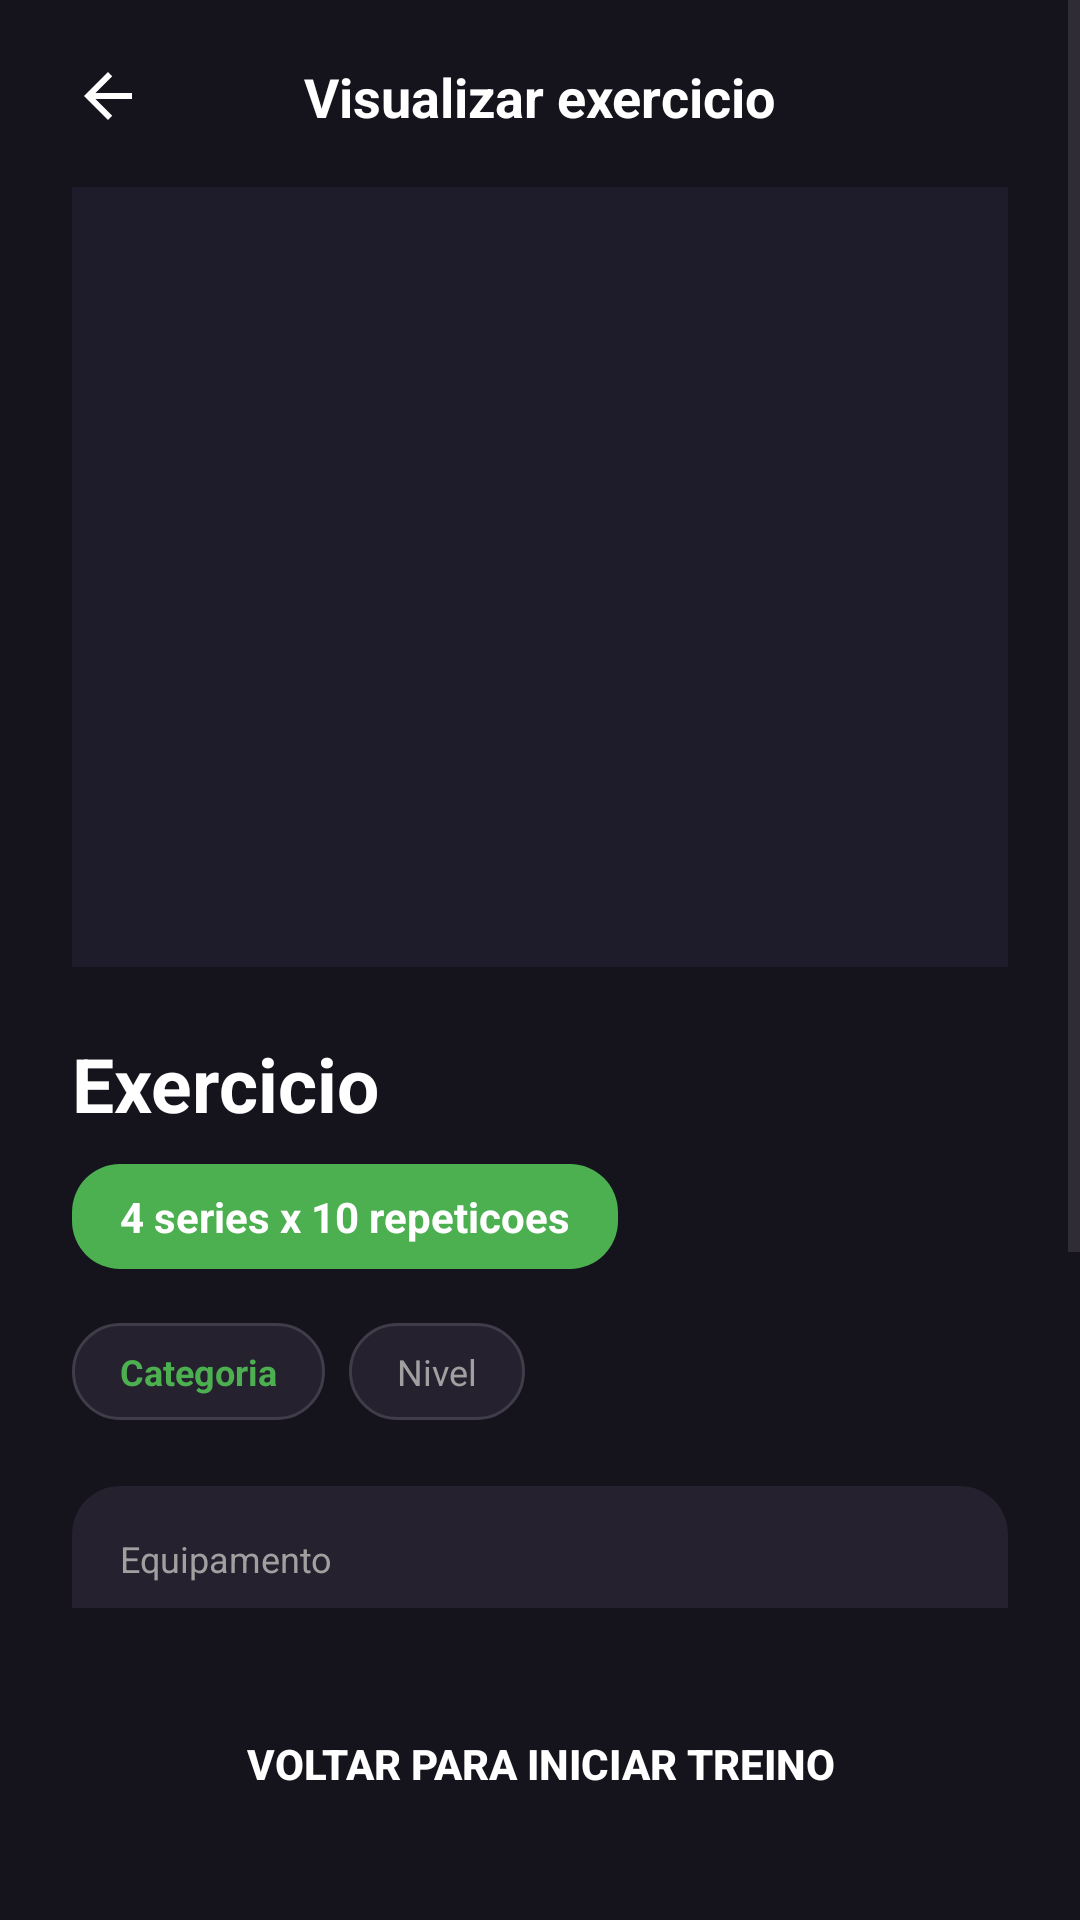

Icon bounding boxes for this 1080px×1920px phone screenshot, format (x1, y1, x2, y2):
arrow back: (84, 72, 132, 120)
